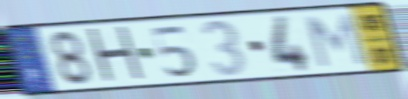3: (200, 18, 251, 79)
4: (269, 13, 313, 75)
5: (149, 23, 199, 79)
8: (48, 29, 93, 88)
H: (84, 23, 150, 87)
M: (303, 12, 370, 70)
